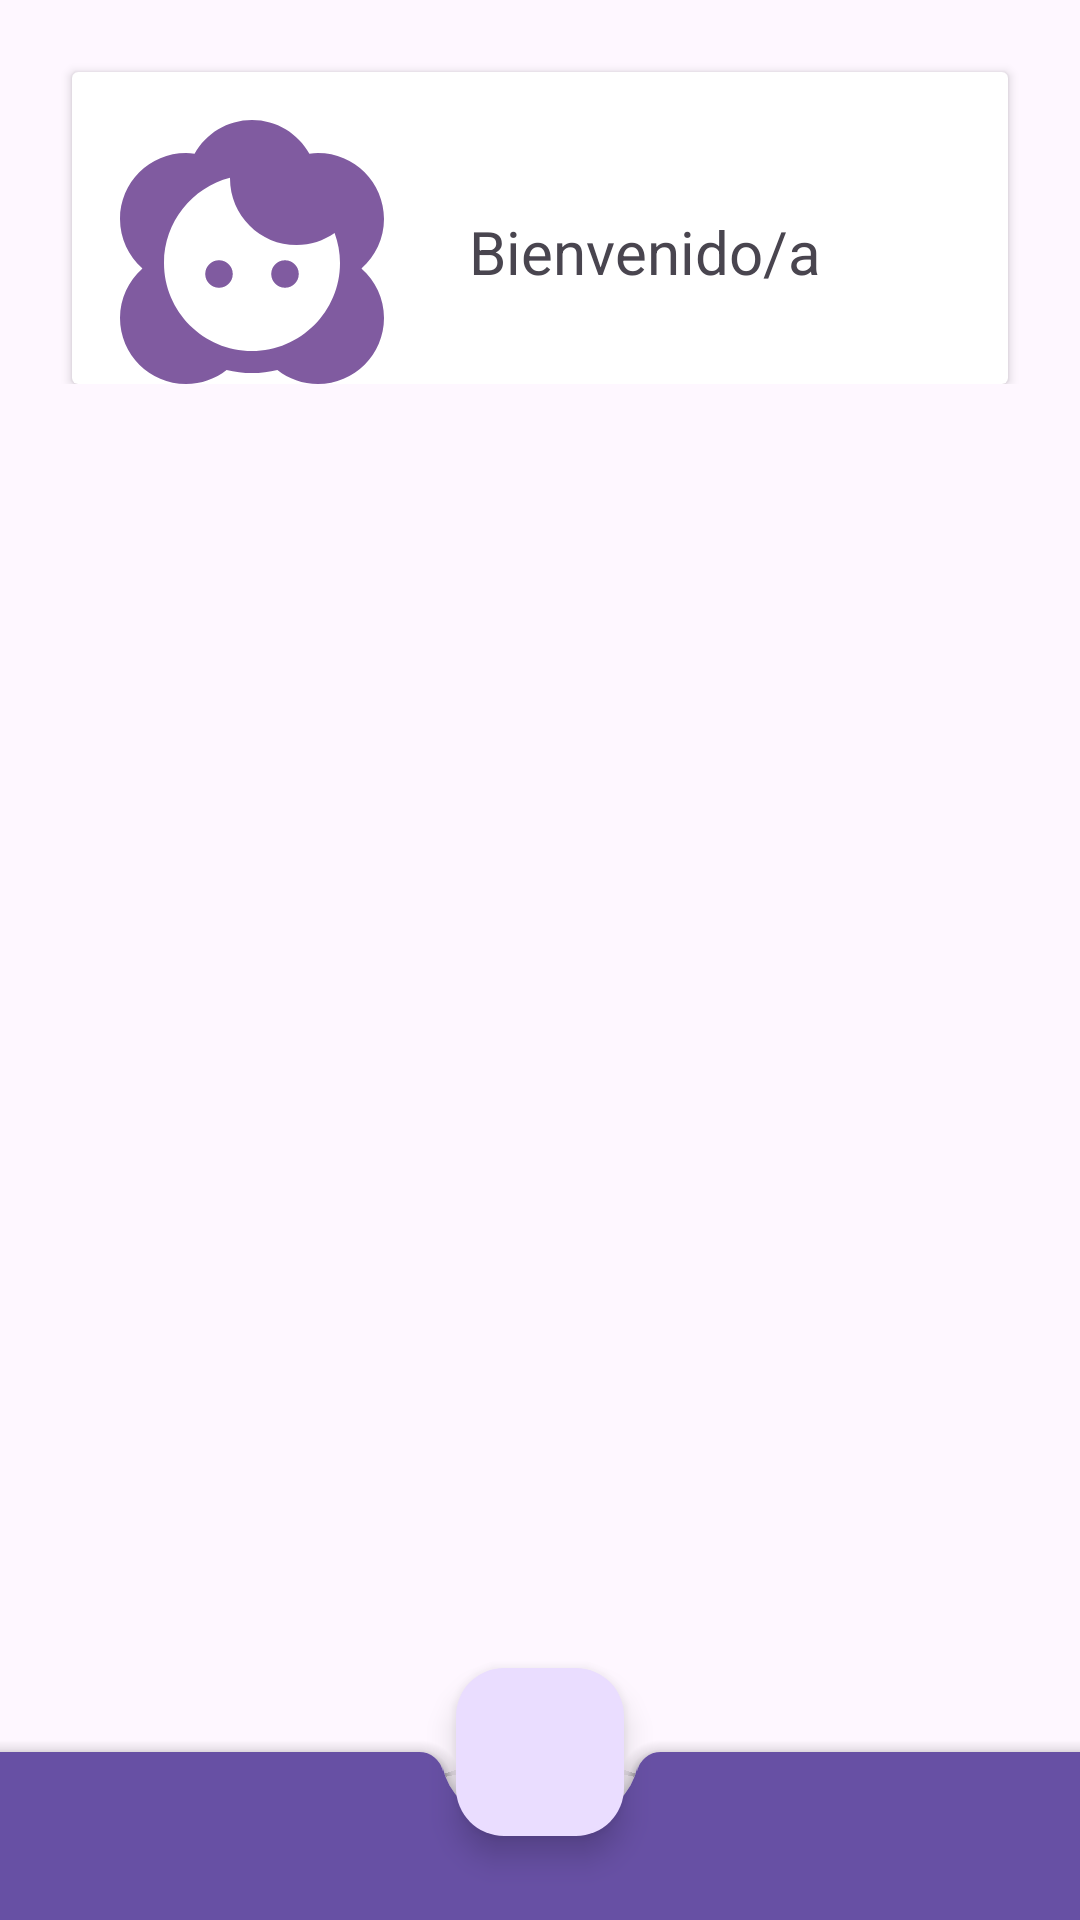

Where icons sit on this 1080w x 1920h app screen, as (x1, y1, x2, y2):
face: (120, 120, 384, 384)
